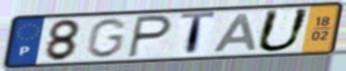8: (43, 18, 82, 62)
A: (210, 12, 259, 54)
G: (83, 17, 130, 60)
P: (125, 14, 174, 60)
T: (178, 10, 219, 58)
U: (253, 7, 314, 54)
